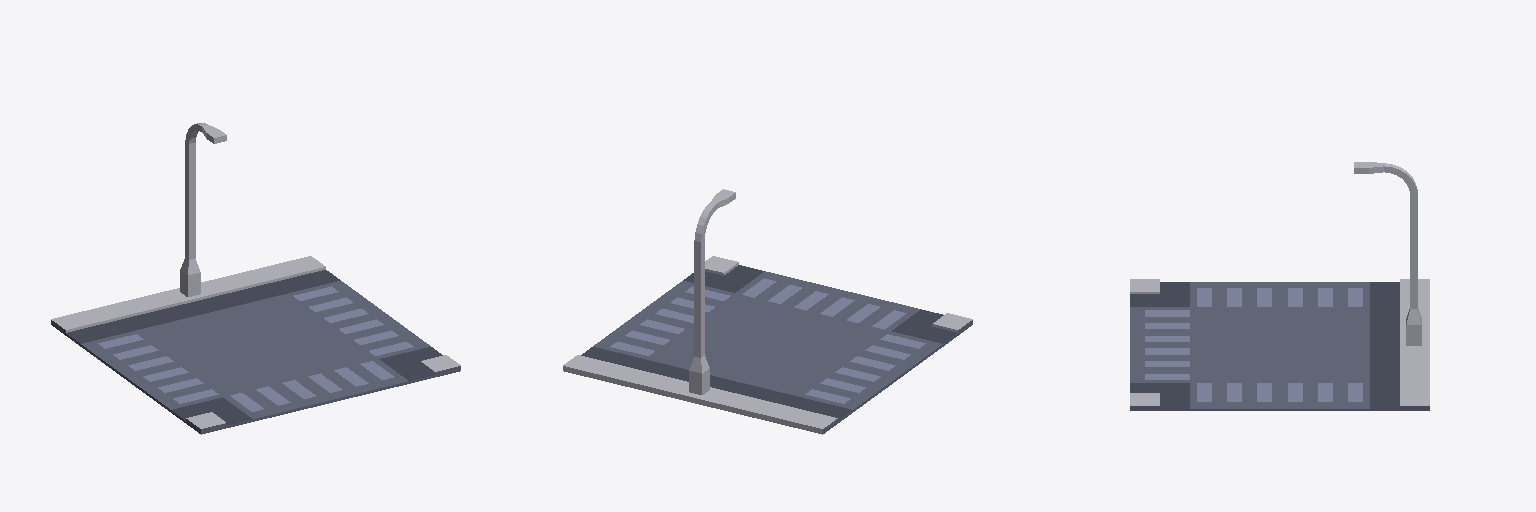
File: city_road_junction_lit.obj
3 views of the same model, side by side, from view 1: azimuth 30°, elevation 25°; view 2: azimuth 150°, elevation 25°; view 3: azimuth 270°, elevation 25° (orthographic).
Parts seen in each view (by area): view 1: mergedBlocks; view 2: mergedBlocks; view 3: mergedBlocks.
Boxes of the visible parts, x1=… form: mergedBlocks: x1=51, y1=123, x2=460, y2=434; mergedBlocks: x1=563, y1=189, x2=972, y2=434; mergedBlocks: x1=1130, y1=162, x2=1429, y2=410.
Bounding box in the file's own units: 1 × 0.675 × 1.